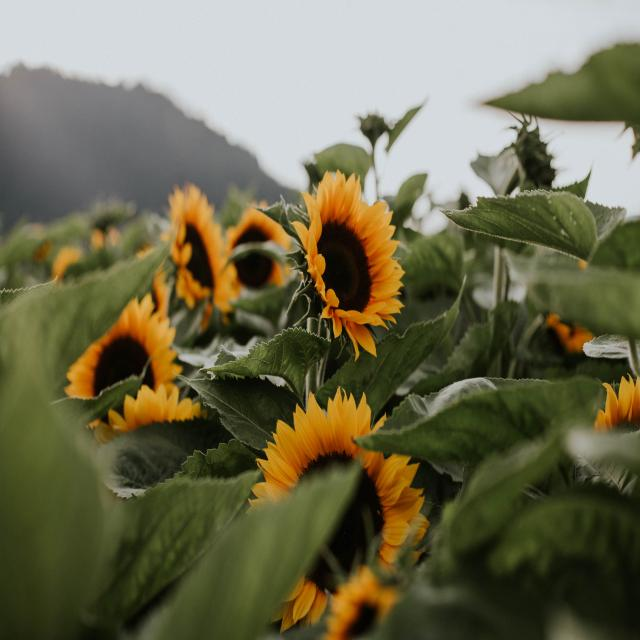sunflower: (241, 383, 436, 640), (290, 161, 408, 348), (56, 286, 184, 439), (152, 176, 250, 318)
